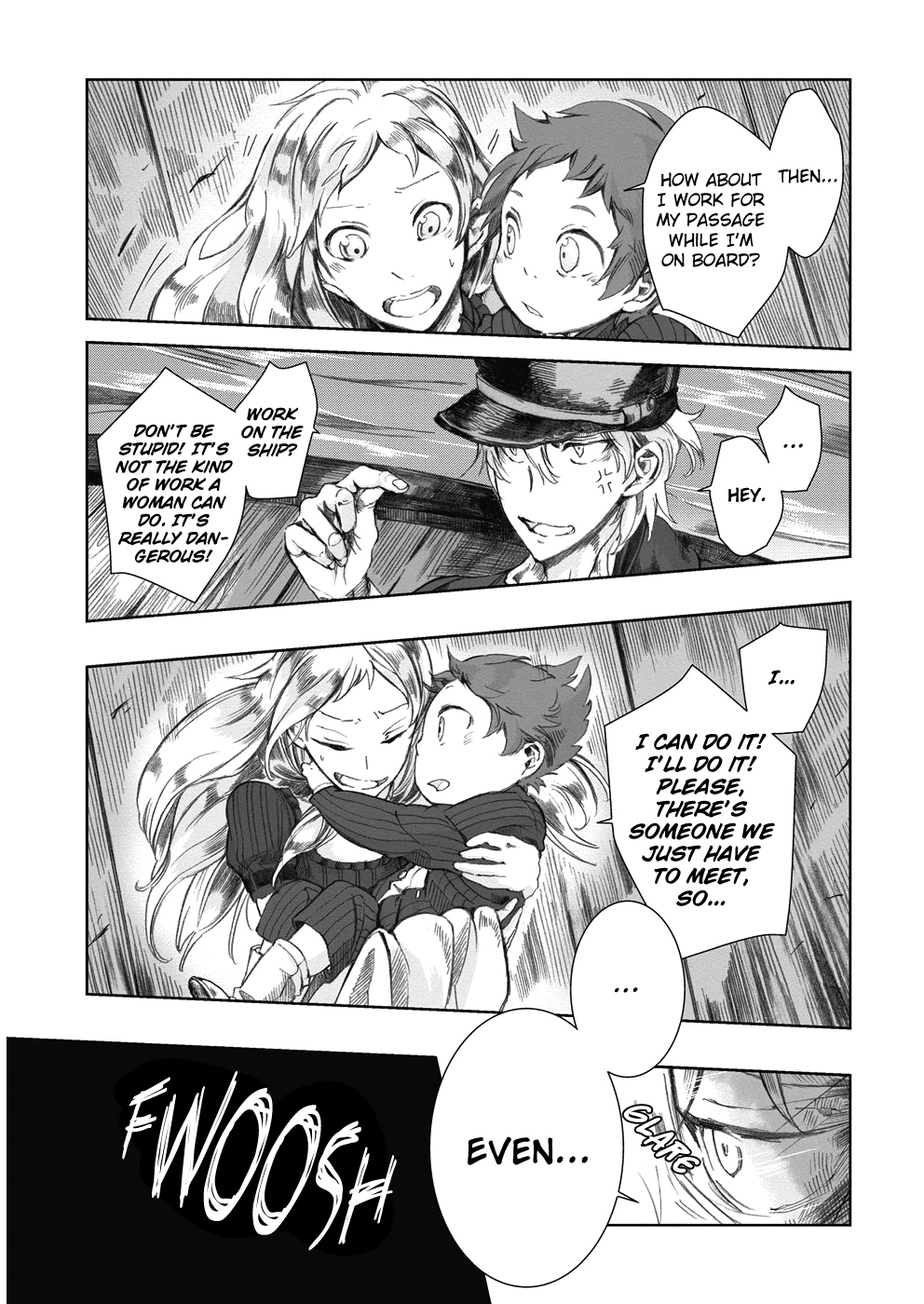bubble: (598, 664, 797, 961), (429, 1008, 637, 1287), (625, 107, 791, 339), (95, 367, 246, 603), (570, 900, 684, 1078), (769, 88, 844, 259), (235, 361, 318, 498), (699, 436, 782, 556), (740, 623, 828, 734), (757, 385, 822, 492)
